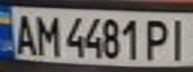1: (121, 16, 142, 61)
4: (81, 14, 106, 58), (63, 12, 84, 59)
8: (103, 15, 124, 60)
A: (9, 10, 39, 56)
I: (163, 16, 193, 62)
M: (33, 10, 60, 57)
P: (142, 16, 175, 62)
